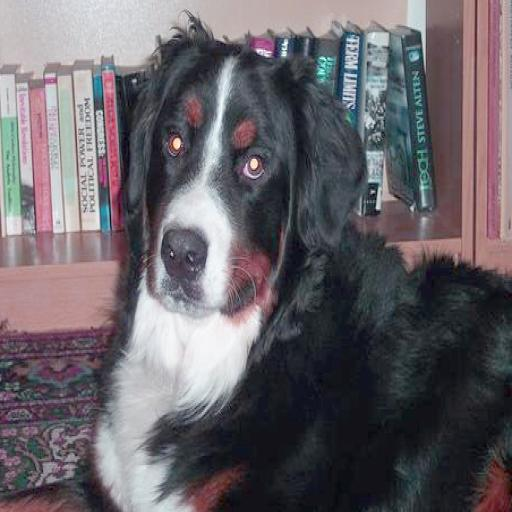dog_face: (126, 28, 345, 298)
